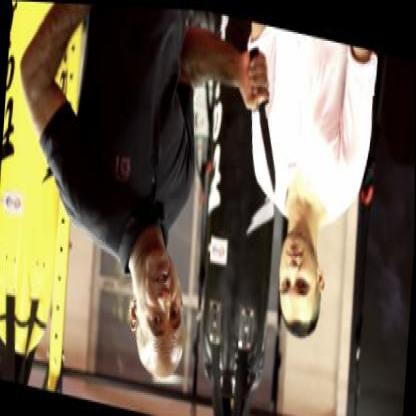knife: (235, 35, 287, 195)
